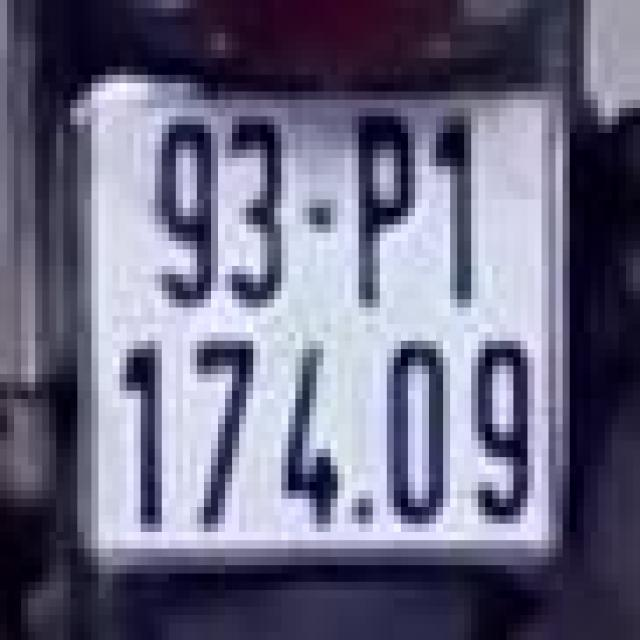0: (380, 332, 457, 540)
1: (98, 328, 190, 544), (429, 83, 492, 324)
3: (225, 100, 295, 316)
4: (281, 332, 345, 540)
7: (190, 328, 267, 544)
9: (144, 116, 222, 316), (468, 332, 538, 524)
P: (338, 100, 422, 316)
